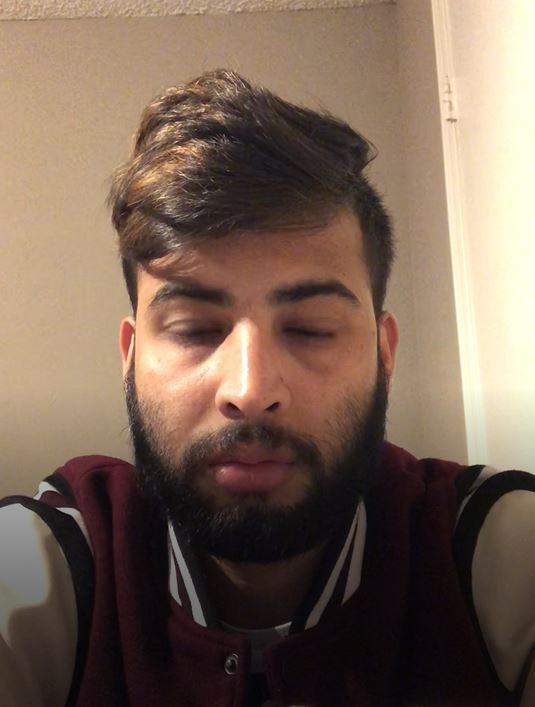Sleeping: (139, 286, 385, 358)
